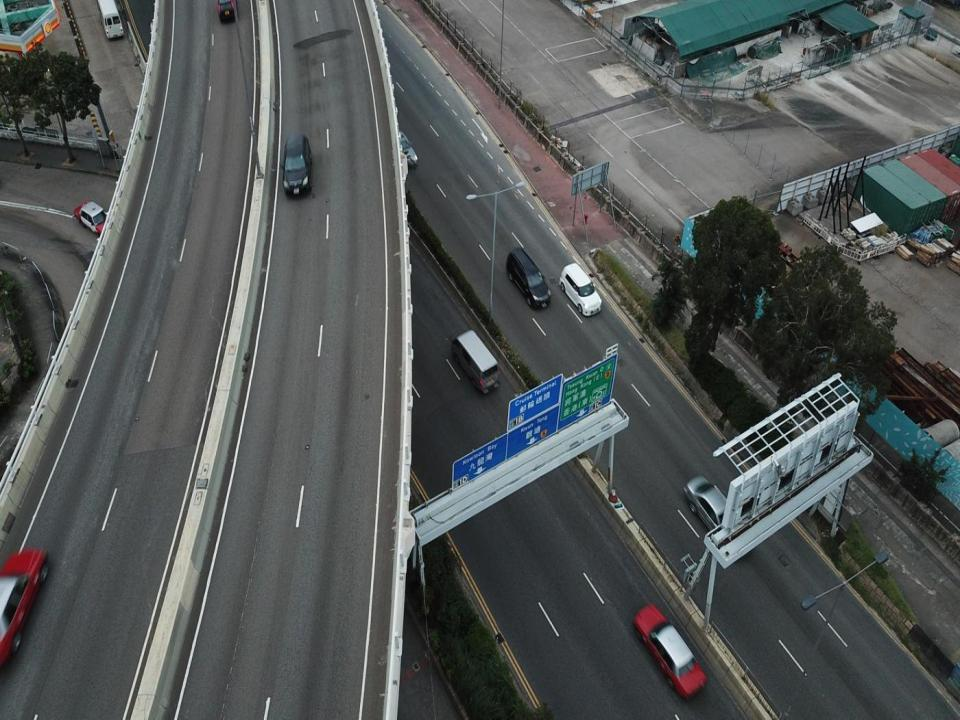car: (632, 600, 707, 700), (0, 542, 47, 682), (685, 470, 742, 546), (556, 257, 606, 318), (506, 240, 550, 309), (279, 132, 311, 200), (73, 196, 114, 246), (390, 122, 419, 169)
van: (452, 326, 500, 395), (98, 0, 126, 43)
